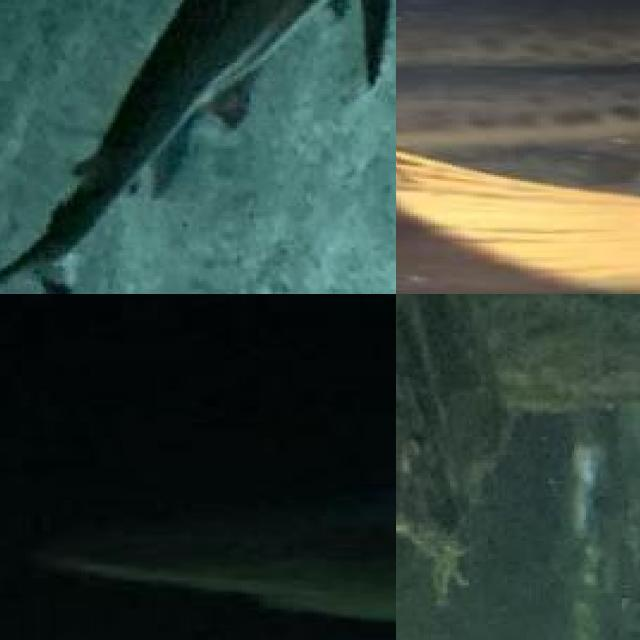fish: (0, 294, 396, 640), (0, 0, 396, 294)
